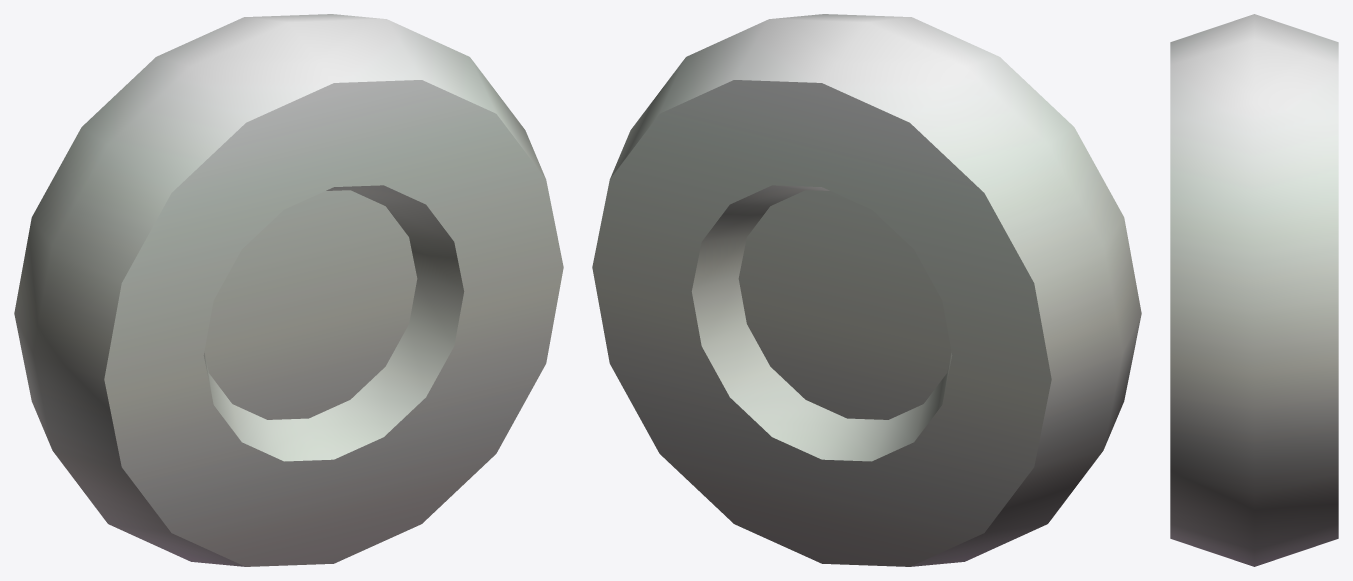
The model's file is Silver_Coin_01.glb.
3 renders of one model, left to right at view 1: azimuth 30°, elevation 25°; view 2: azimuth 150°, elevation 25°; view 3: azimuth 270°, elevation 25°, orthographic. The views are drawn at different scales.
Visible parts, largest first — view 1: Silver_Coin_01; view 2: Silver_Coin_01; view 3: Silver_Coin_01.
Boxes of the visible parts, x1=… form: Silver_Coin_01: x1=14, y1=14, x2=563, y2=566; Silver_Coin_01: x1=592, y1=14, x2=1141, y2=566; Silver_Coin_01: x1=1170, y1=14, x2=1338, y2=566.
Size of the model in its own units: 0.25 by 0.25 by 0.0761.
1 material, 1 textured.
